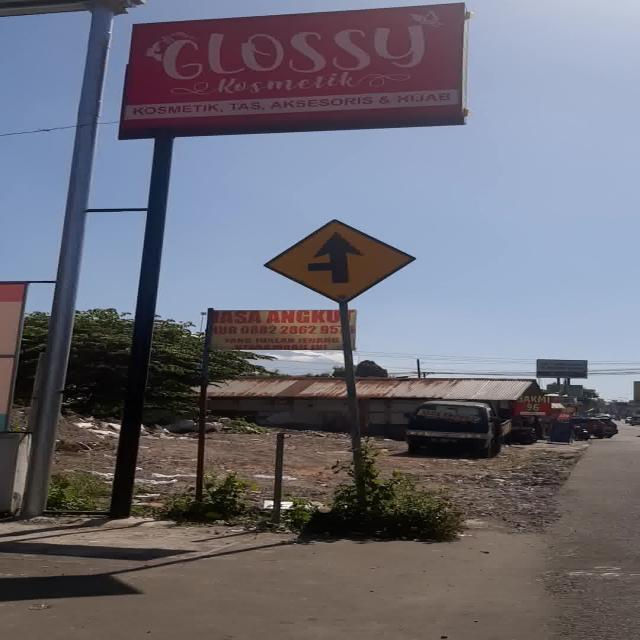Persimpangan 3 Prioritas Kiri: (263, 219, 417, 303)
